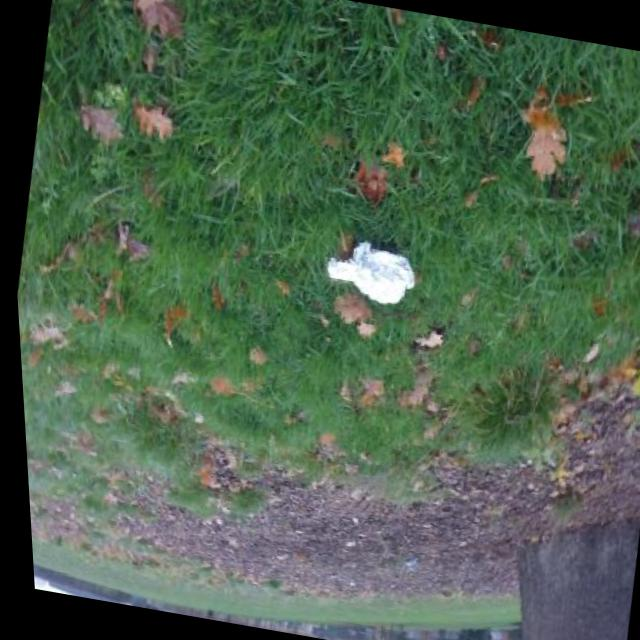metal: (318, 232, 421, 308)
